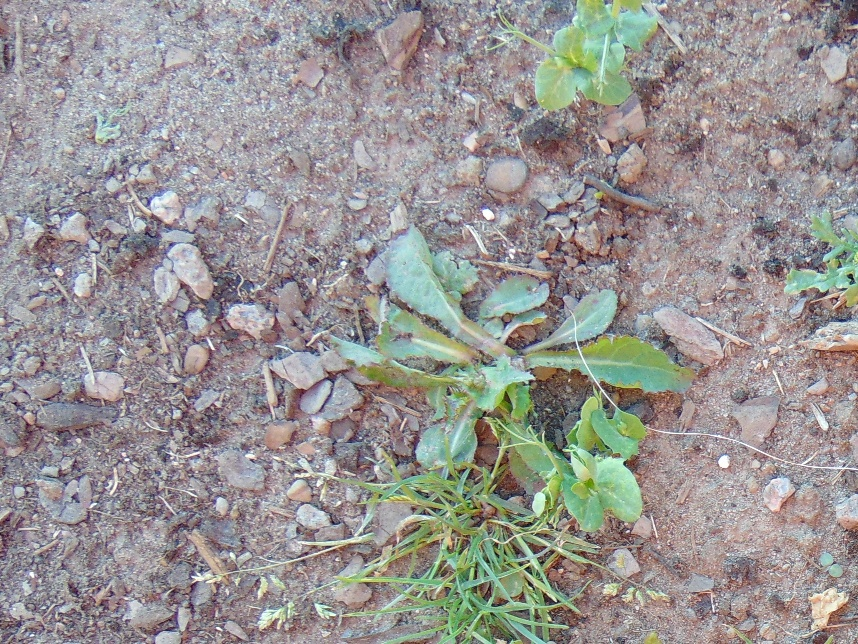crop: (493, 1, 663, 112), (512, 397, 646, 532)
weed: (334, 234, 690, 438), (359, 440, 529, 626), (784, 210, 858, 311), (820, 550, 845, 578)
